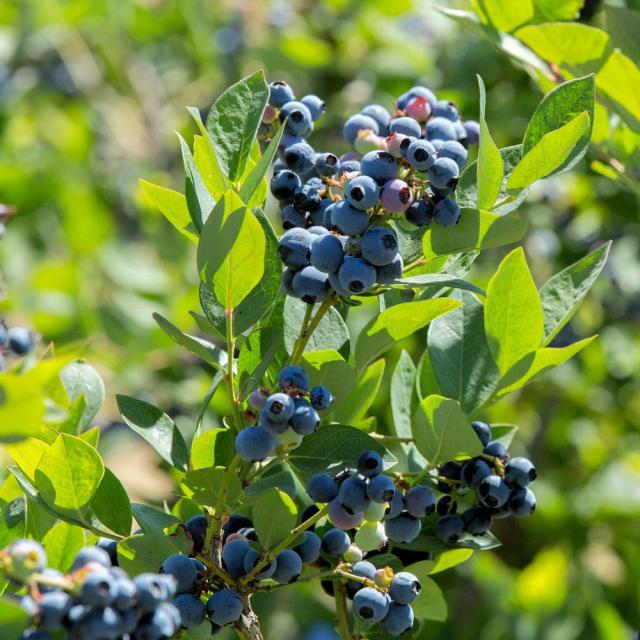BlueBerry - v1: (357, 221, 402, 268), (5, 533, 51, 578), (232, 425, 279, 469), (330, 200, 377, 241), (275, 224, 317, 269), (288, 261, 333, 303), (156, 552, 200, 593), (358, 147, 402, 185), (335, 255, 376, 295), (77, 570, 122, 606), (309, 233, 348, 274), (215, 535, 252, 577), (378, 514, 423, 547), (302, 468, 340, 507), (335, 477, 373, 516), (290, 527, 328, 566), (182, 511, 211, 561), (240, 544, 278, 582), (378, 177, 414, 217), (475, 471, 511, 511), (270, 548, 310, 584), (325, 499, 367, 533), (221, 508, 260, 544), (504, 452, 539, 491), (404, 482, 438, 522), (345, 173, 381, 210), (274, 362, 309, 399), (351, 519, 388, 554), (427, 153, 461, 191), (66, 544, 111, 572), (290, 403, 324, 439), (354, 448, 390, 482), (504, 486, 540, 520), (388, 569, 424, 603), (281, 140, 318, 173), (130, 569, 169, 600), (365, 473, 401, 506), (356, 100, 393, 132), (264, 74, 296, 110), (278, 202, 314, 234), (456, 458, 494, 488), (268, 169, 302, 202), (463, 504, 497, 537), (339, 114, 382, 140), (278, 99, 312, 131), (406, 138, 438, 172), (264, 390, 296, 424), (318, 526, 352, 558), (344, 559, 379, 590), (207, 577, 248, 603), (434, 512, 466, 545), (388, 112, 424, 140), (294, 182, 324, 215), (434, 194, 464, 227), (383, 486, 411, 521), (424, 115, 457, 144), (438, 135, 468, 166), (406, 197, 436, 228), (7, 325, 36, 357), (358, 499, 393, 524), (299, 92, 328, 122), (312, 147, 341, 177), (245, 385, 275, 414), (432, 96, 462, 124), (383, 130, 413, 158), (309, 380, 335, 411), (336, 541, 366, 566), (274, 265, 298, 296), (405, 86, 439, 107), (405, 96, 431, 123), (372, 560, 397, 588), (356, 132, 382, 158), (260, 413, 288, 437), (468, 418, 493, 444), (352, 584, 382, 605), (483, 436, 508, 461), (342, 236, 368, 260), (321, 201, 340, 233), (301, 220, 331, 240), (462, 116, 483, 144), (258, 101, 281, 124)
